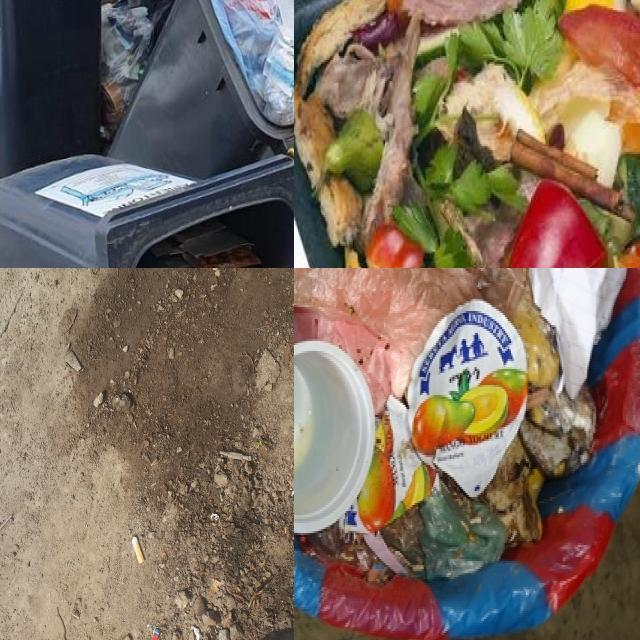Background: (0, 268, 294, 640)
Cig_bud: (132, 537, 145, 563)
Garbage: (294, 268, 627, 585), (294, 0, 640, 268), (210, 0, 294, 124)
Metal: (408, 299, 527, 497)
Plastic_Bag: (294, 268, 523, 412), (381, 479, 506, 580), (211, 0, 276, 104)
Plastic_Container: (294, 341, 375, 532)
Plastic_wraper: (339, 397, 435, 532), (151, 628, 160, 640)
